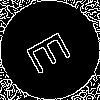E: (25, 25, 81, 76)
